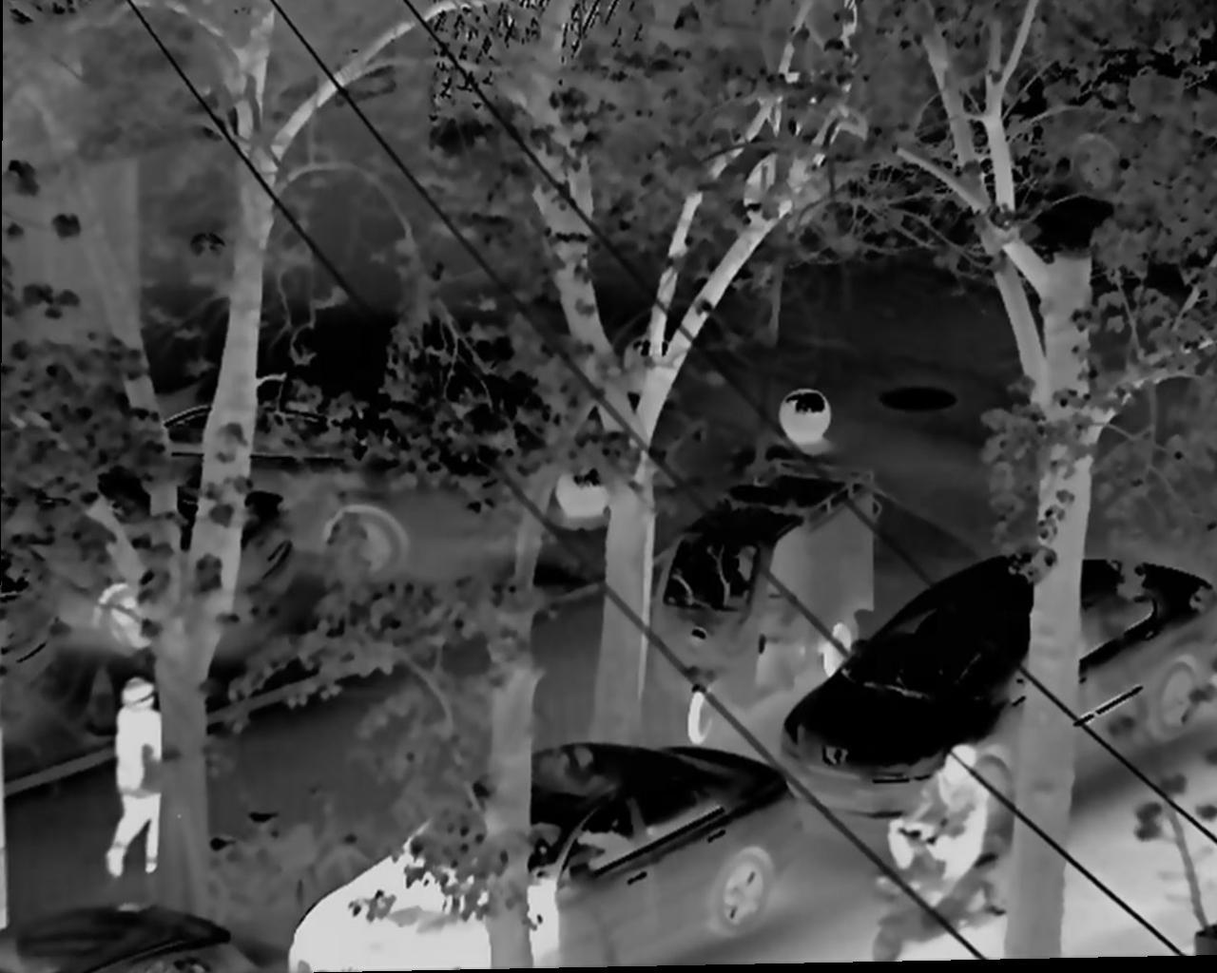person: (887, 737, 995, 918), (103, 672, 176, 888)
